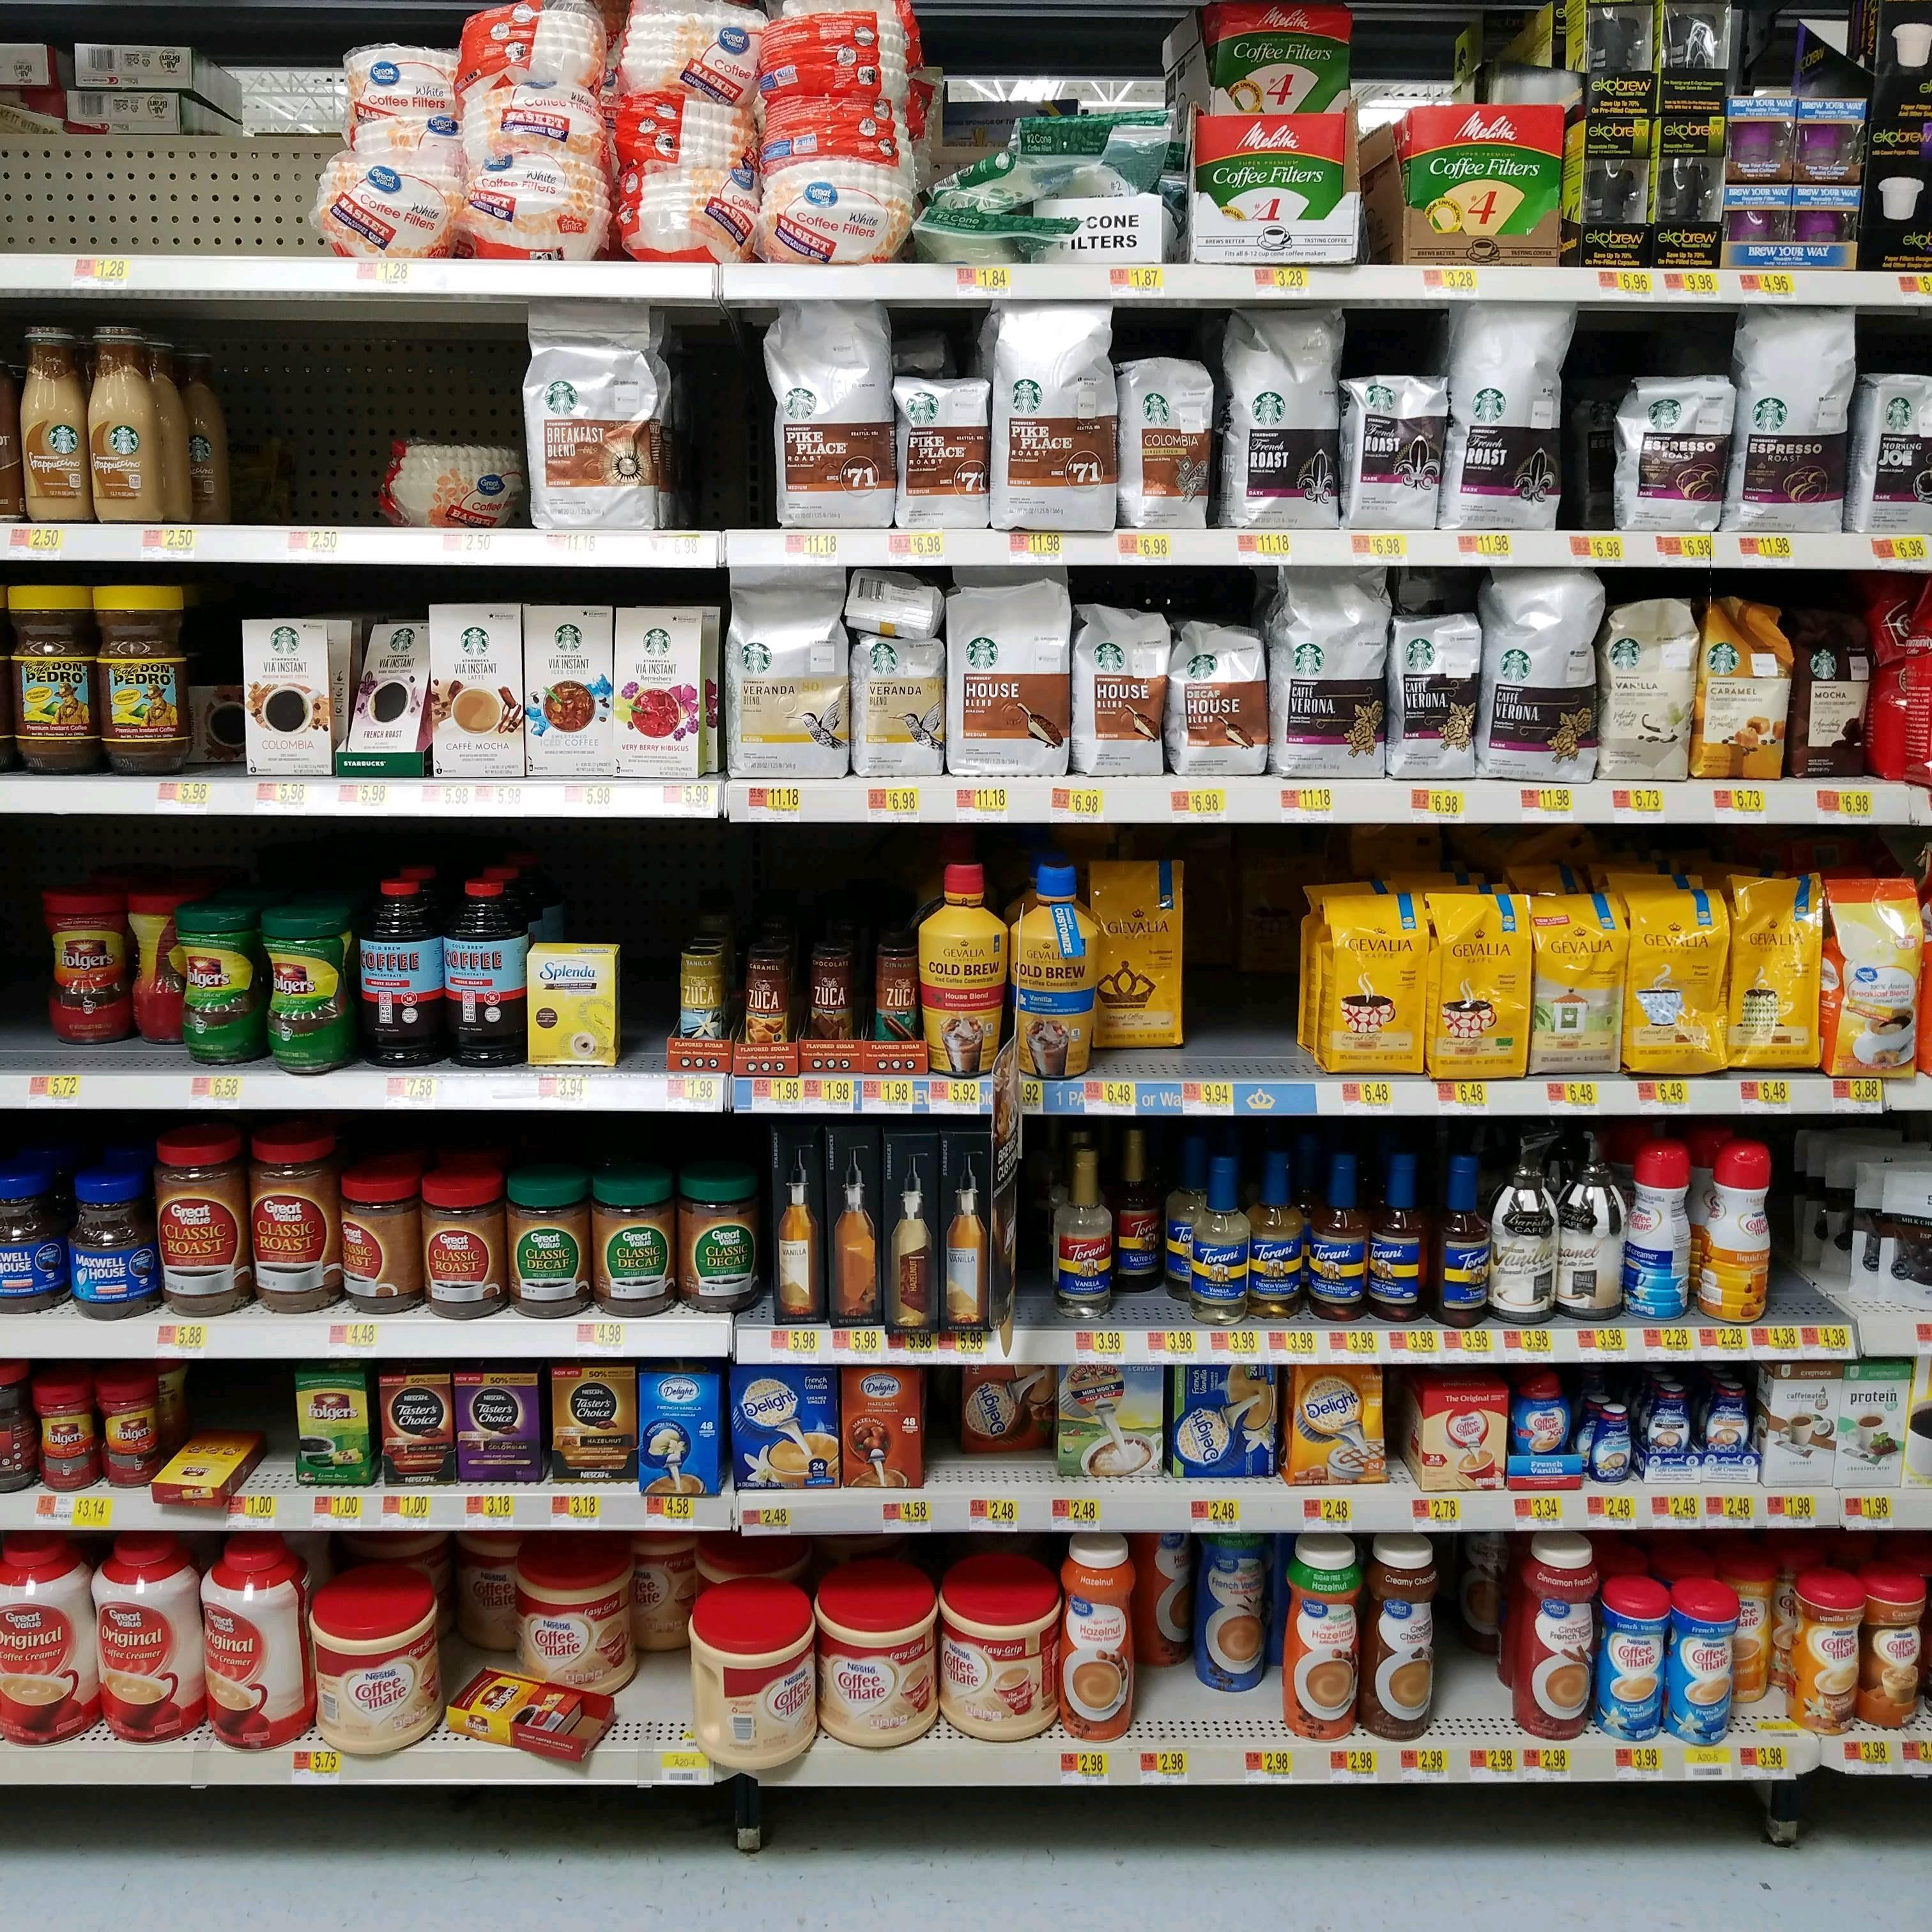empty: (0, 51, 152, 253), (161, 51, 313, 253), (223, 359, 382, 525), (660, 331, 777, 525), (1187, 872, 1299, 1070), (1437, 1537, 1518, 1744), (1136, 1548, 1217, 1755), (1557, 327, 1638, 534), (193, 1359, 294, 1499), (616, 895, 671, 1070)
